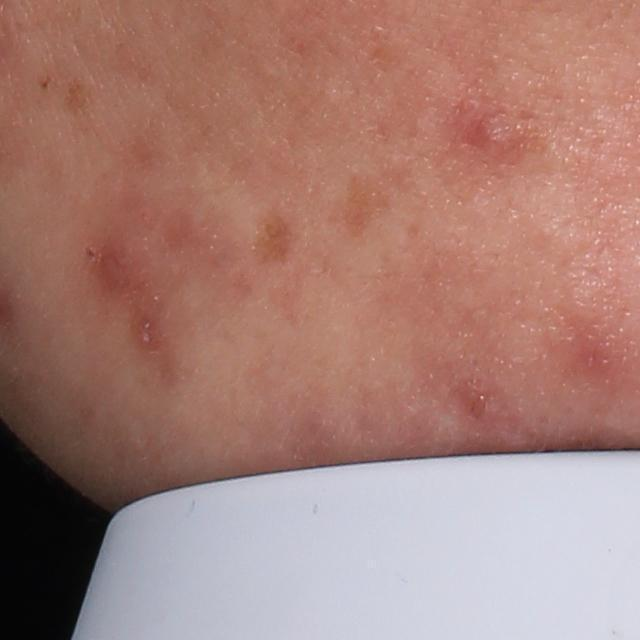papule: (87, 240, 146, 306), (468, 109, 519, 158)
